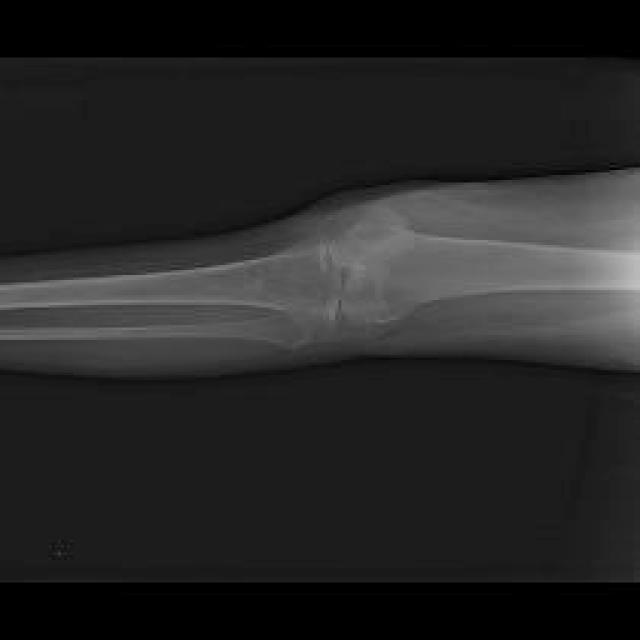normal: (2, 208, 638, 347)
